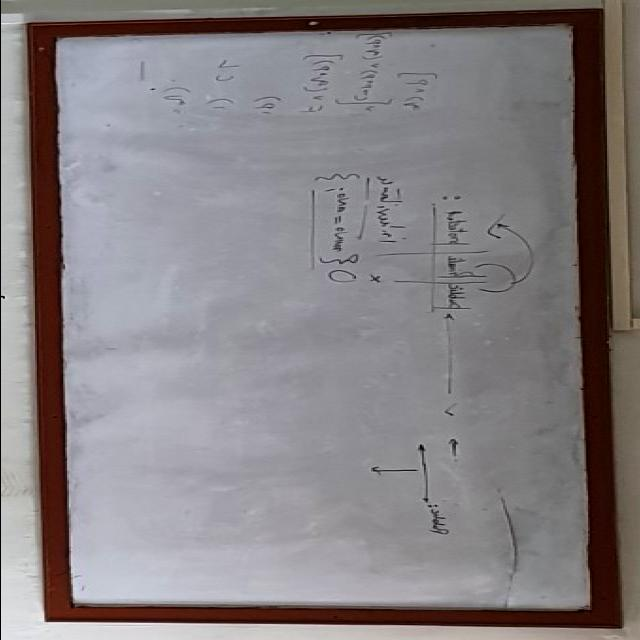White-board: (32, 16, 607, 618)
